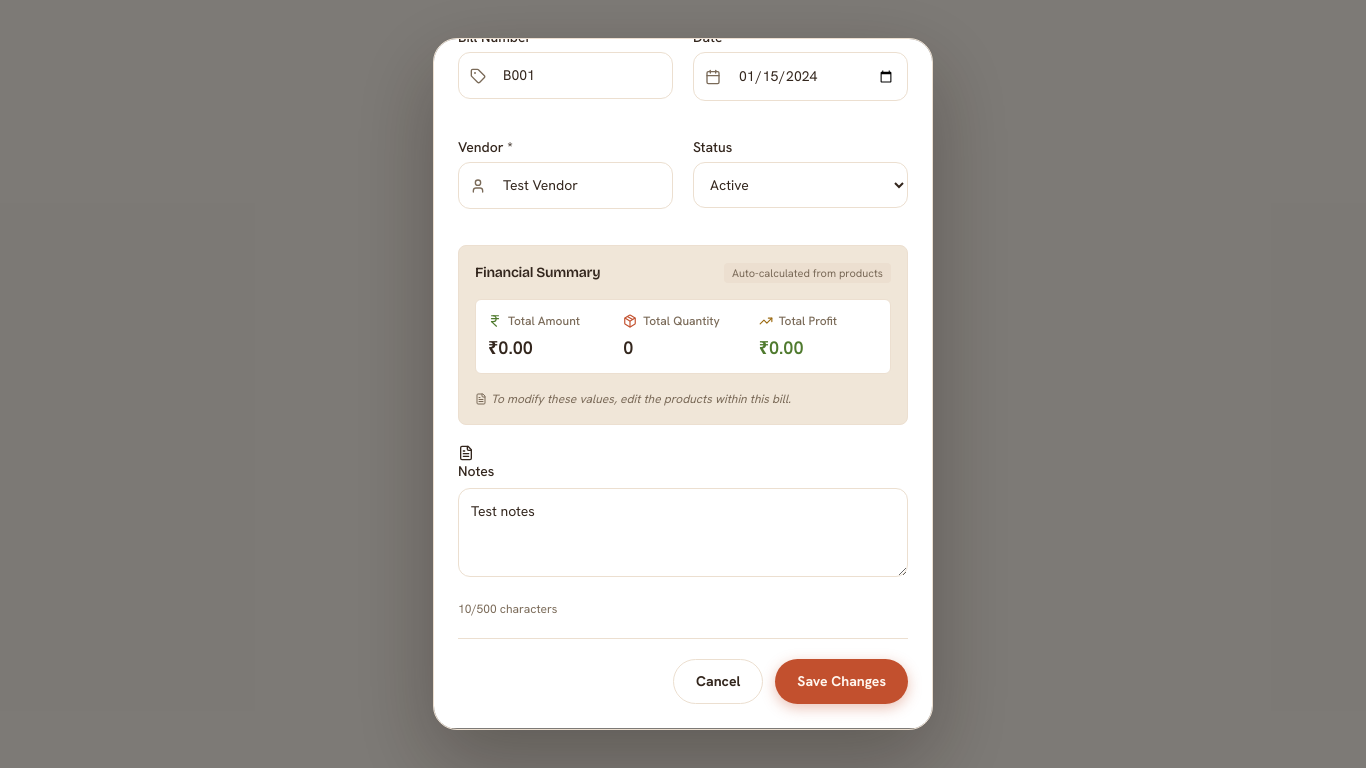
BillEditModal › Accessibility › disables form elements during loading
(page scrolled)
Click the button "Save Changes". click: (842, 682)
box: [775,659,908,704]
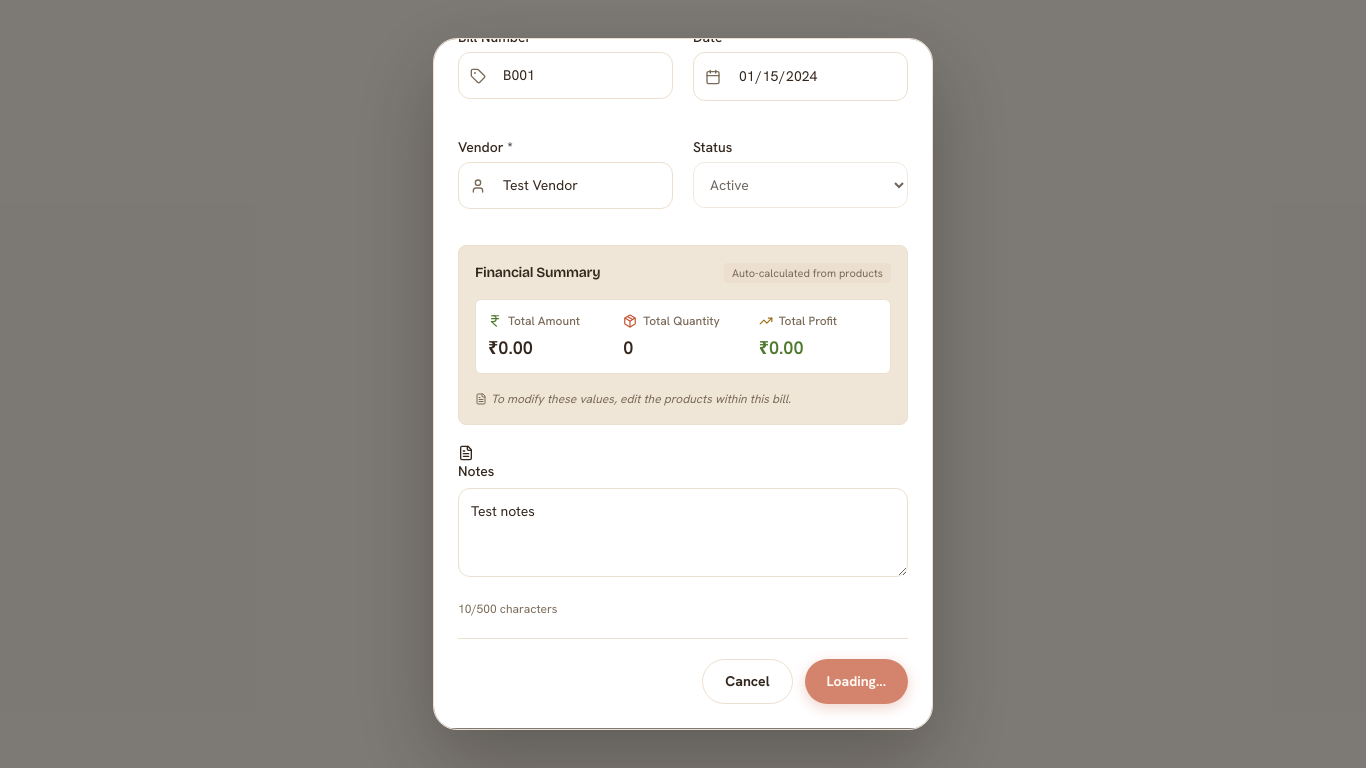
expect the field showing "B001" is disabled: met, box [458,52,673,99]
expect the button "Cancel" is disabled: met, box [702,659,793,704]
